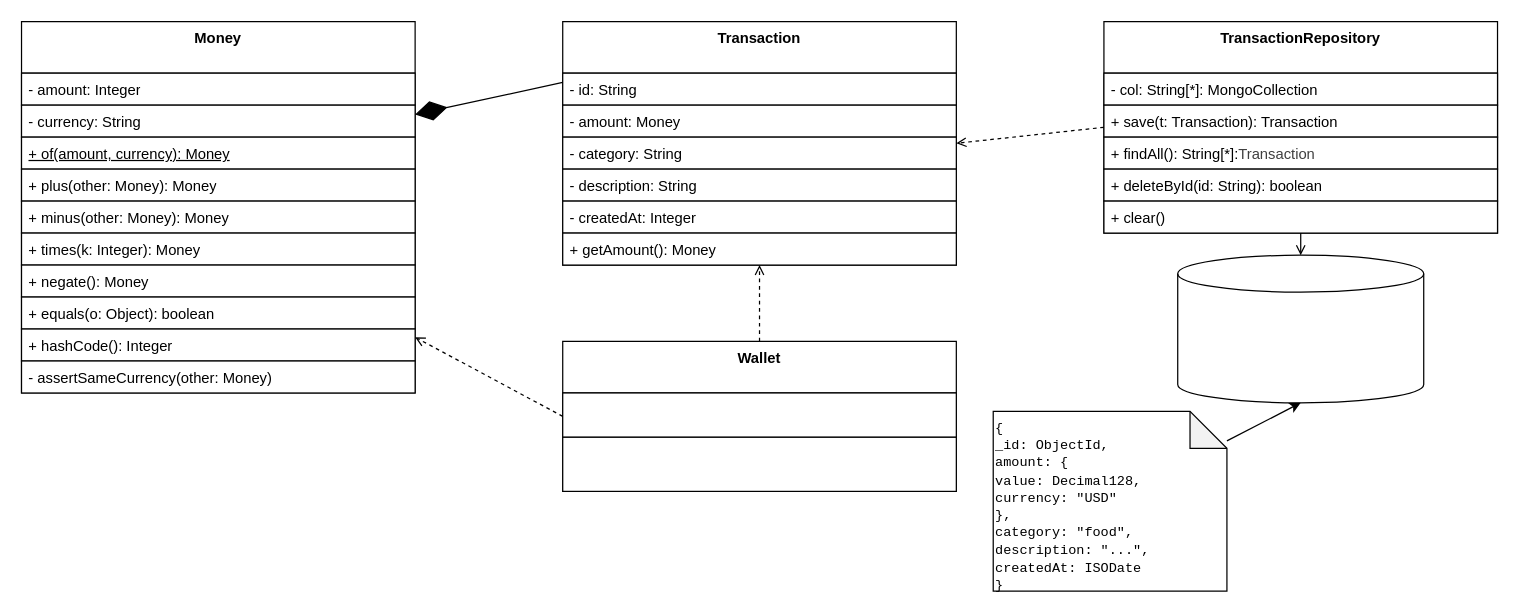
The diagram is 1519 pixels wide and 616 high, and some of its shapes have lost their labels. The shapes that lost their labels are listed below. From the top down, each one's centre as x and y in pixels, then its label:
At (1300,328): "MongoDB".
At (758,414): "+ totalByCurrency(txs): String".
At (758,463): "+ totalByCategory(txs): String".
